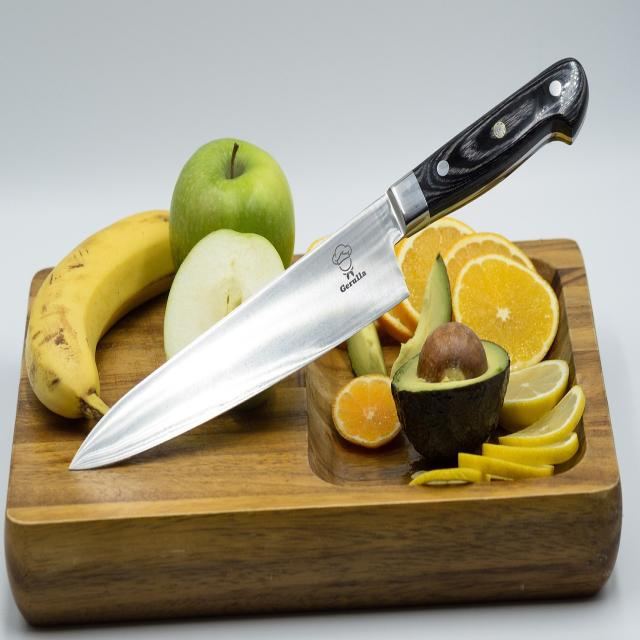Knife: (70, 61, 588, 469)
